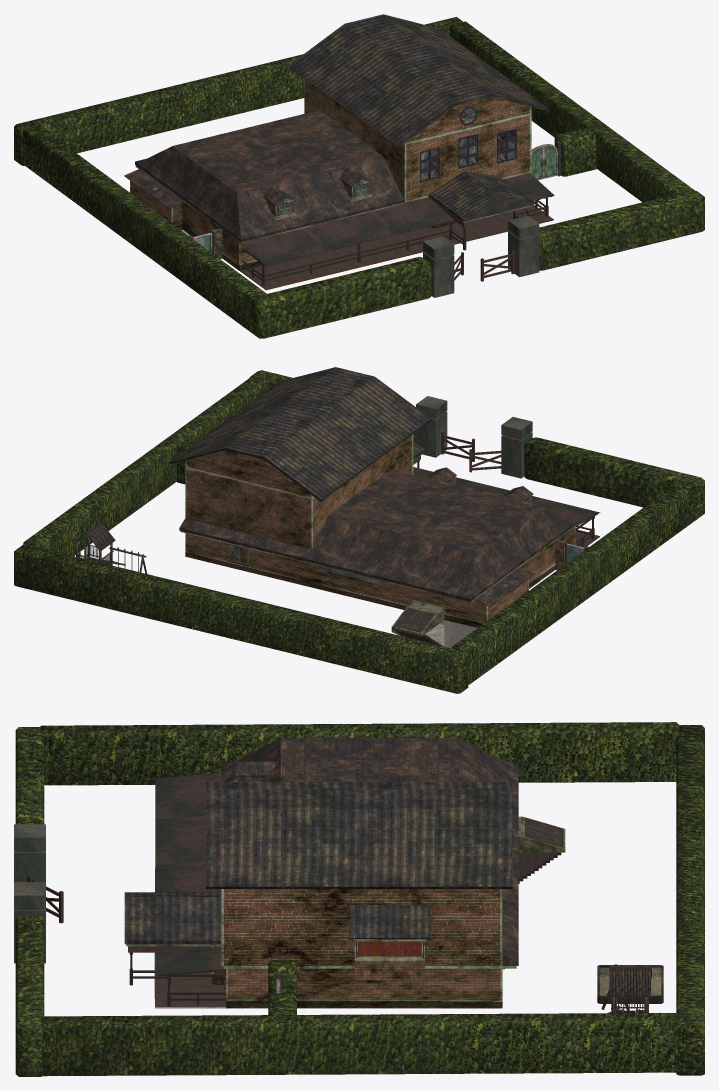
The model's file is house.glb.
3 renders of one model, top to bottom at view 1: azimuth 30°, elevation 25°; view 2: azimuth 150°, elevation 25°; view 3: azimuth 270°, elevation 25°, orthographic. The views are drawn at different scales.
Visible parts, largest first — view 1: Arb-col, Techo-col, Casa-col, Lamina-col, 1st_floor-col, Pilares-col, Ventanas casa-col, Madera-col, Puertas Patio-col, V3.001-col; view 2: Arb-col, Techo-col, Casa-col, Pilares-col, Playground -col, Lamina-col, Pared zotano-col, Zotano-col, Puertas Patio-col; view 3: Arb-col, Techo-col, Casa-col, Lamina-col, Balcon-col, Pilares-col, Playground -col, 1st_floor-col, Madera-col, Planta 2-col, Zotano-col, Gradas Zotano-col.
Part boxes in pixels (<box>): Arb-col: <box>14,17,704,338</box>; Techo-col: <box>124,14,549,243</box>; Casa-col: <box>130,79,531,270</box>; Lamina-col: <box>241,173,554,265</box>; 1st_floor-col: <box>240,162,553,290</box>; Pilares-col: <box>423,215,539,297</box>; Ventanas casa-col: <box>420,107,516,182</box>; Madera-col: <box>242,196,552,285</box>; Puertas Patio-col: <box>189,141,560,258</box>; V3.001-col: <box>480,251,514,281</box>; Arb-col: <box>14,370,704,693</box>; Techo-col: <box>169,367,577,606</box>; Casa-col: <box>179,434,575,627</box>; Pilares-col: <box>416,396,532,478</box>; Playground -col: <box>72,522,147,573</box>; Lamina-col: <box>413,467,600,525</box>; Pared zotano-col: <box>425,620,477,648</box>; Zotano-col: <box>391,601,444,636</box>; Puertas Patio-col: <box>555,539,588,570</box>; Arb-col: <box>15,722,704,1076</box>; Techo-col: <box>124,738,518,944</box>; Casa-col: <box>211,874,518,1008</box>; Lamina-col: <box>155,772,225,975</box>; Balcon-col: <box>349,905,430,979</box>; Pilares-col: <box>14,824,45,963</box>; Playground -col: <box>597,964,663,1013</box>; 1st_floor-col: <box>154,868,499,1008</box>; Madera-col: <box>128,946,226,1006</box>; Planta 2-col: <box>358,941,421,956</box>; Zotano-col: <box>518,816,565,858</box>; Gradas Zotano-col: <box>518,852,561,883</box>.
Size of the model in its own units: 50.02 by 16.24 by 48.03.
Materials: 52 (52 with a texture image).
